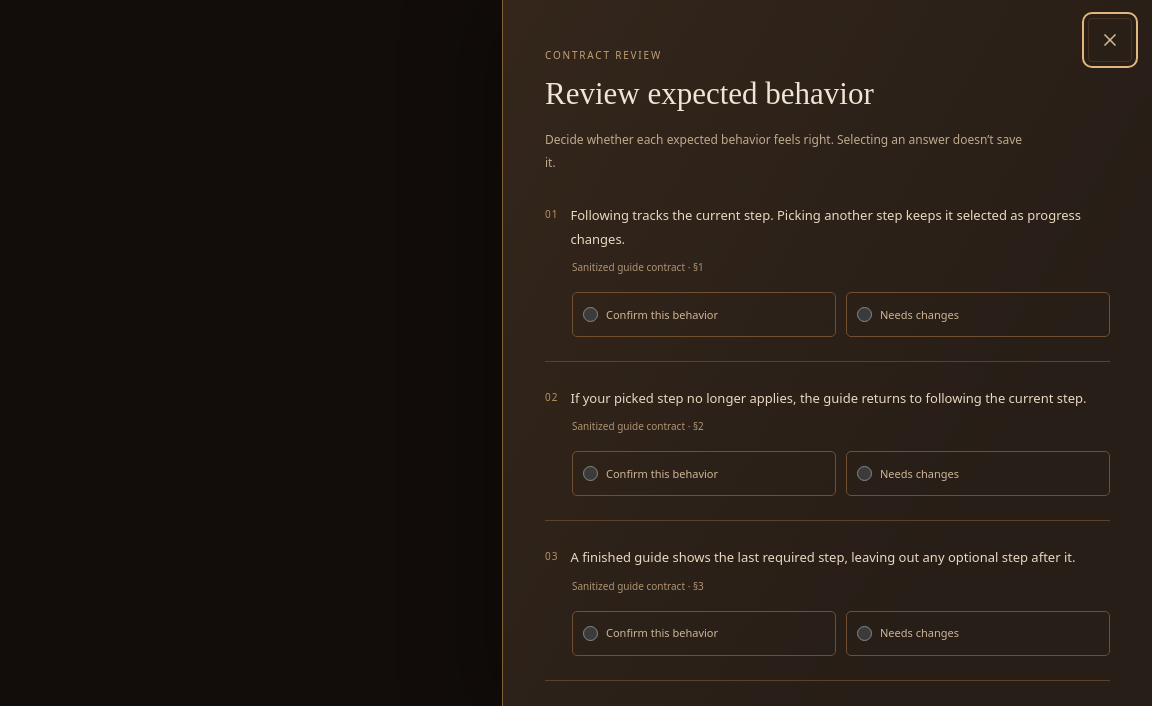
Test: review semantics › explains that requesting changes retains the hold
Click the radio button labelled "Needs changes" below "Sanitized guide contract · §1": (864, 315) [857, 307, 872, 322]
(page scrolled)
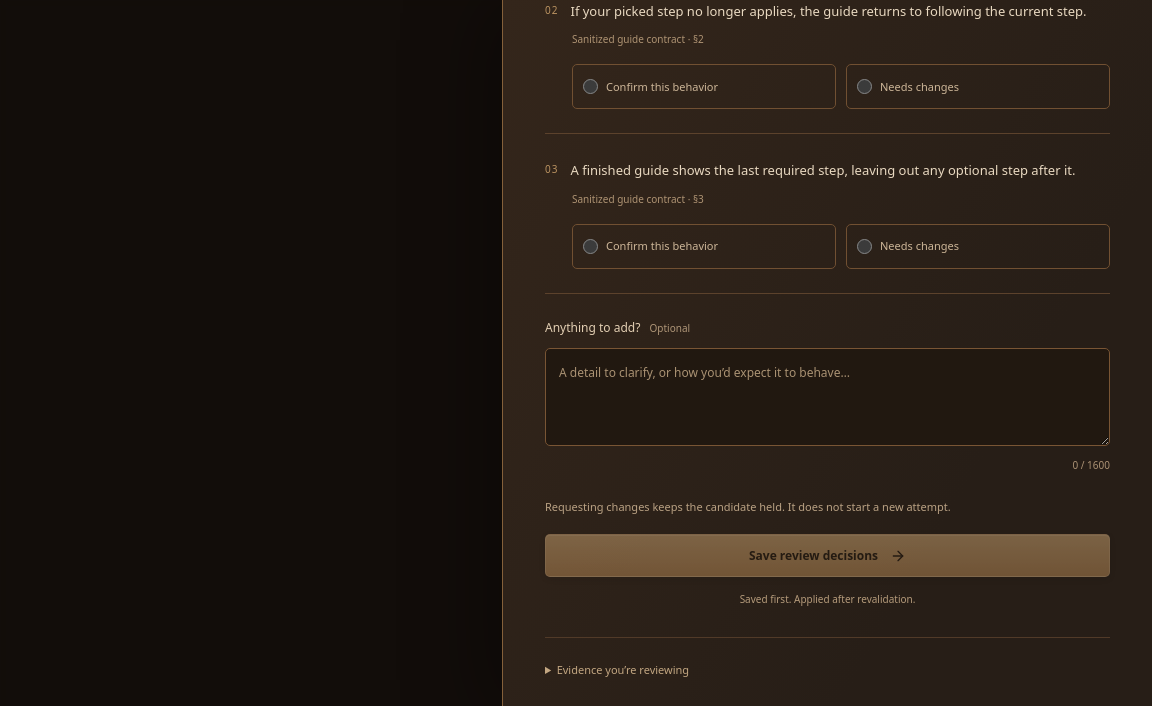
Now the text "Requesting changes keeps the candidate held" is shown, box [545, 498, 951, 514]
